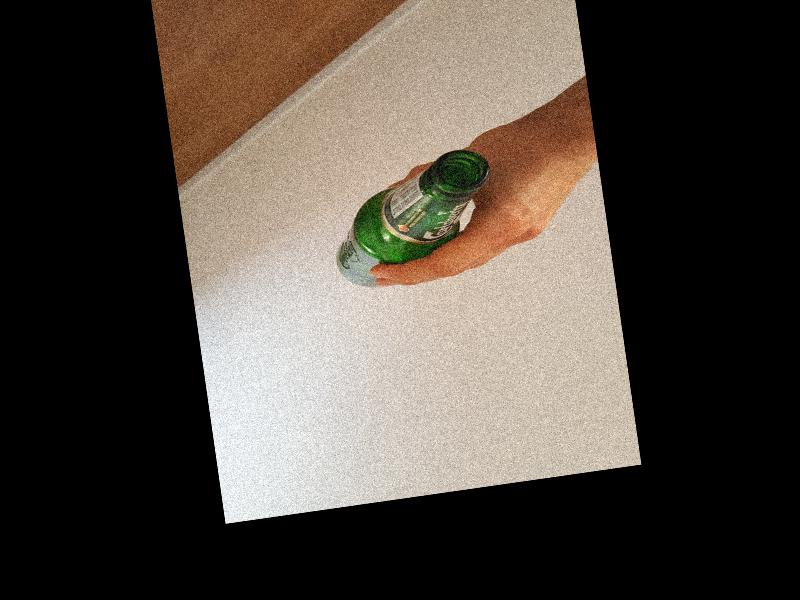Beer: (323, 143, 504, 290)
